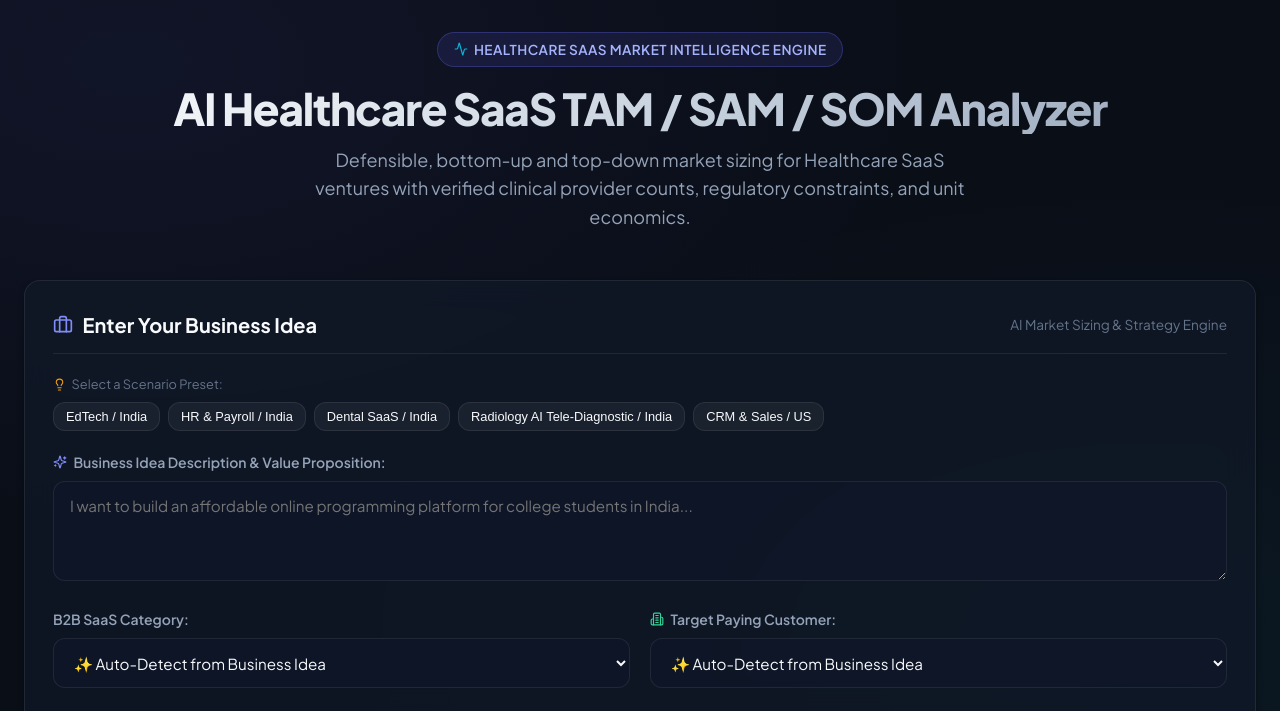
it: Market Sizing UI Components & Integration Suite › handles backend API errors gracefully on MarketAnalysisPage
Click the button "EdTech / India" at (107, 416), box [53,402,160,431]
(page scrolled)
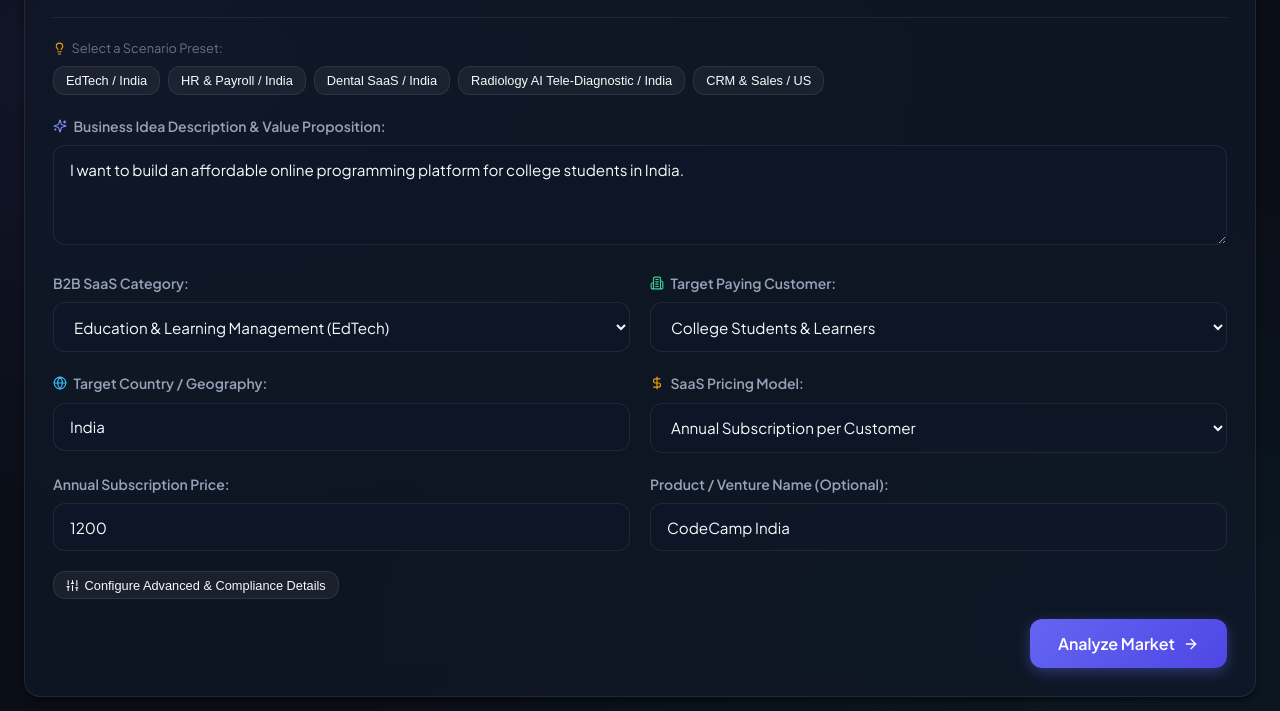
Submit the form with placeholder "I want to build an affordable online programming platform"
(page scrolled)
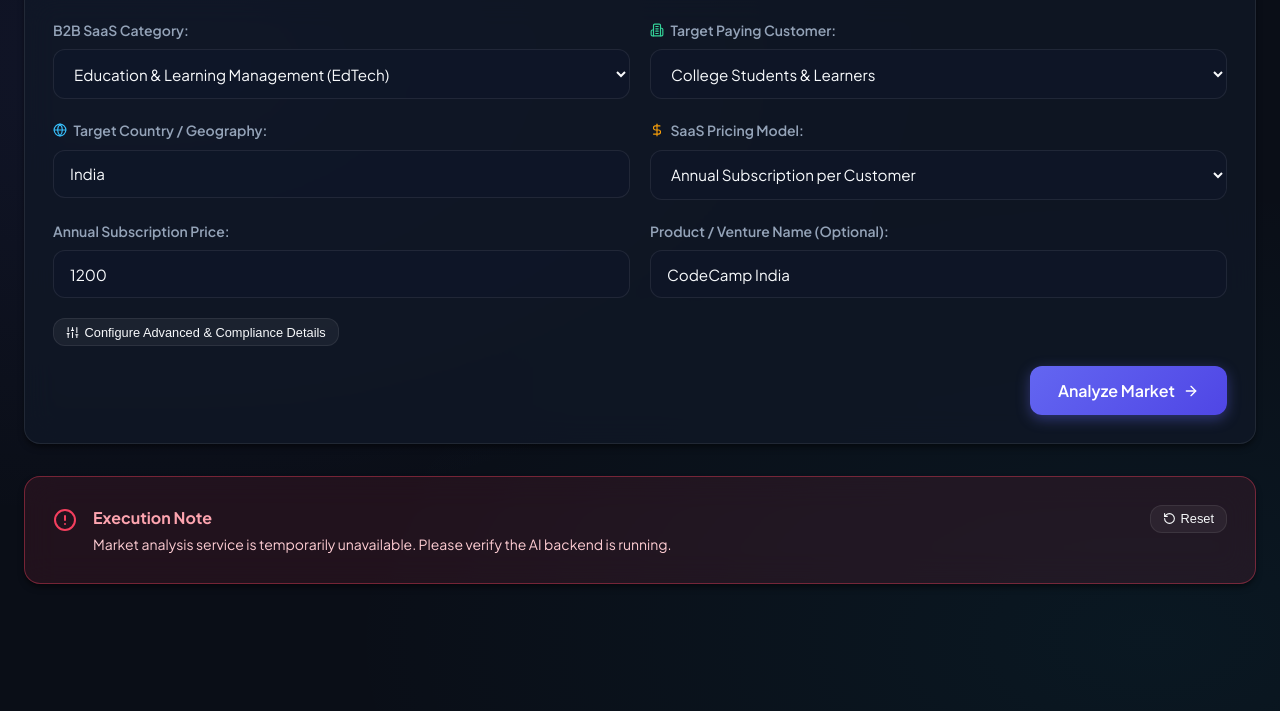
Expected: the text "Market analysis service is temporarily unavailable" is shown, [93,535,672,553]
# Reset button
Click the button "Reset" at (1188, 519), box [1150,505,1227,533]
(page scrolled)
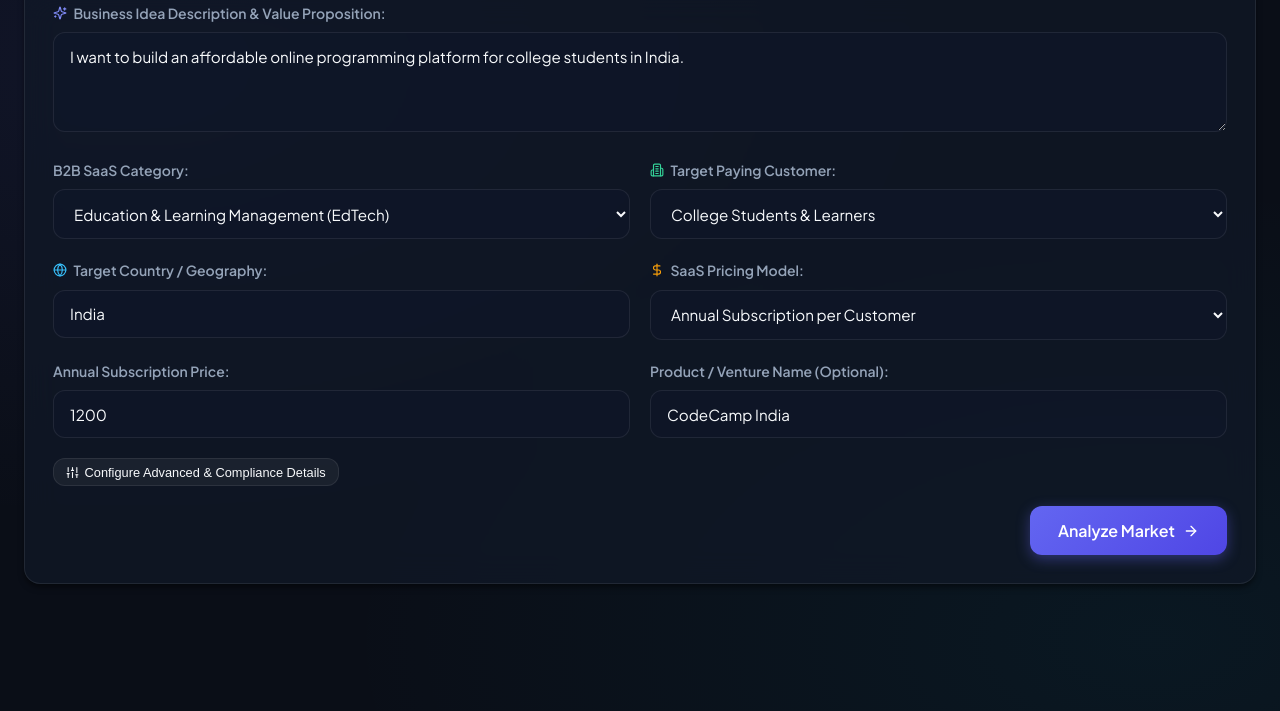
Expected: the text "Market analysis service is temporarily unavailable" is gone
